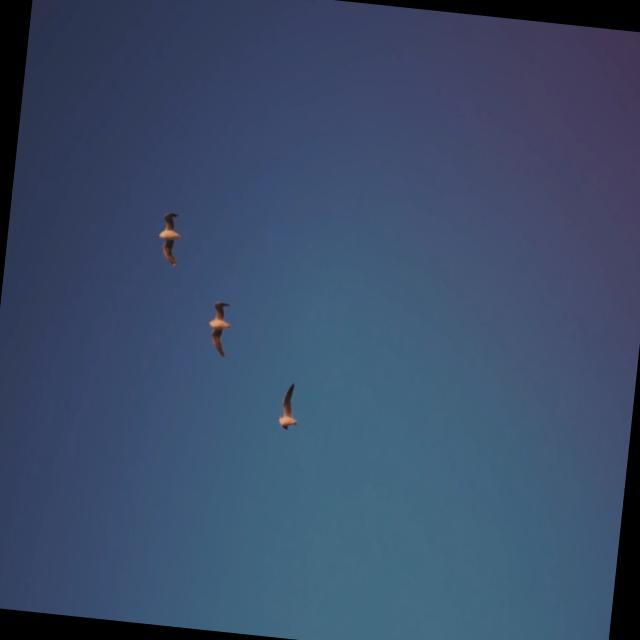bird: (202, 295, 235, 361), (154, 206, 185, 269), (274, 378, 302, 433)
